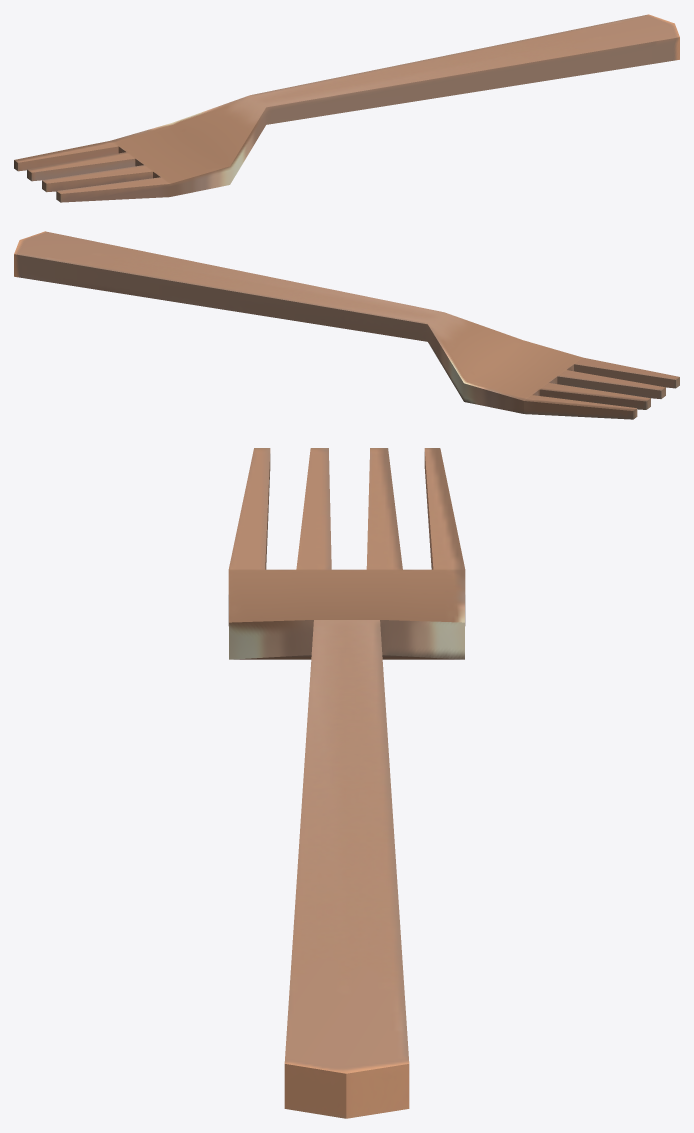
Rendered from Fork_02.fbx.
3 renders of one model, top to bottom at view 1: azimuth 30°, elevation 25°; view 2: azimuth 150°, elevation 25°; view 3: azimuth 270°, elevation 25°, orthographic. The views are drawn at different scales.
Parts seen in each view (by area): view 1: Fork_02; view 2: Fork_02; view 3: Fork_02.
Part boxes in pixels (<box>): Fork_02: <box>14,14,679,202</box>; Fork_02: <box>14,231,679,419</box>; Fork_02: <box>228,448,465,1118</box>.
Size of the model in its own units: 59.03 by 4.25 by 9.49.
